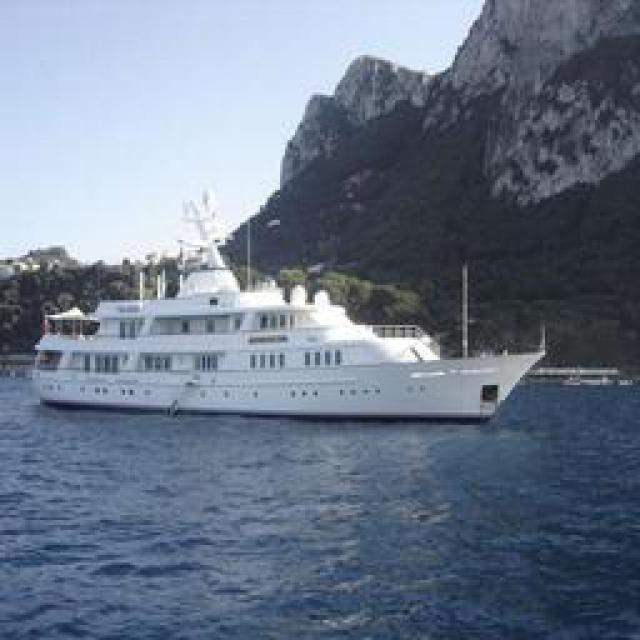Ship: (31, 189, 546, 425)
